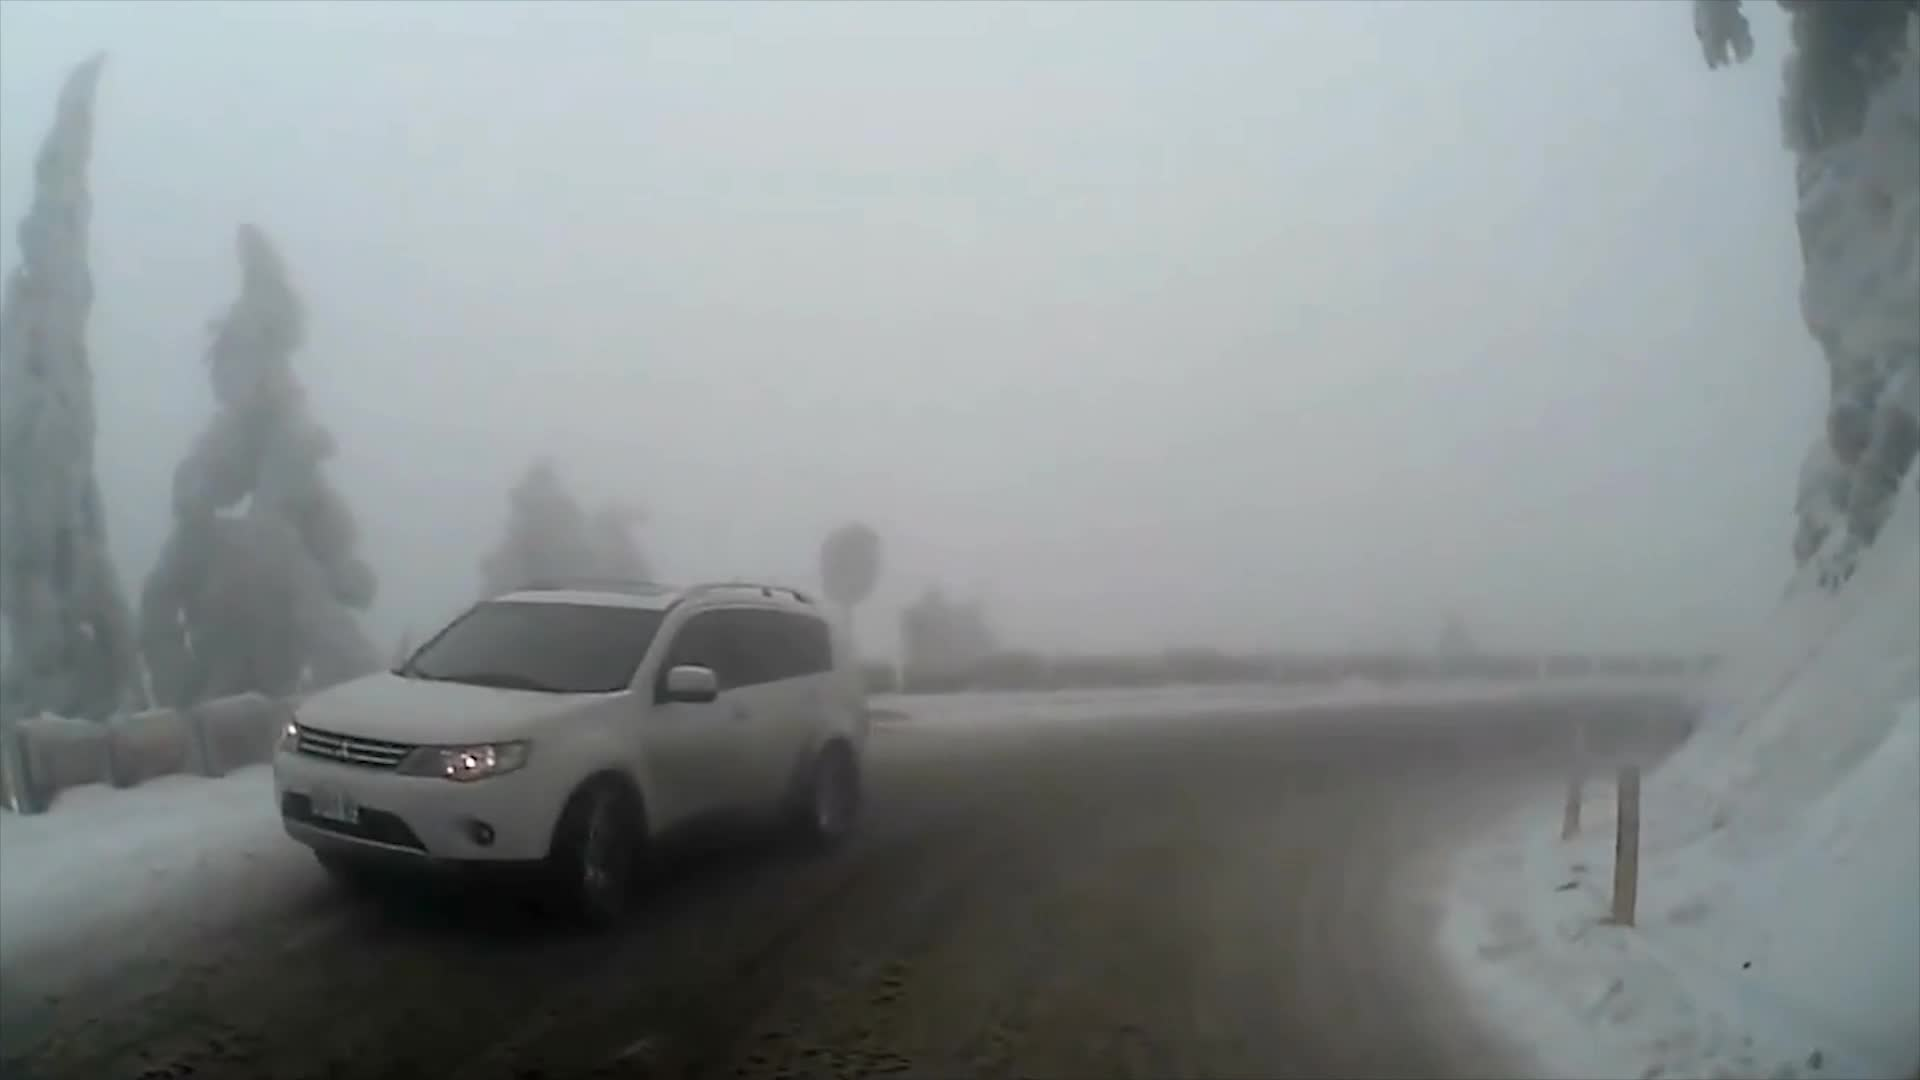vehicle: (266, 576, 868, 938)
